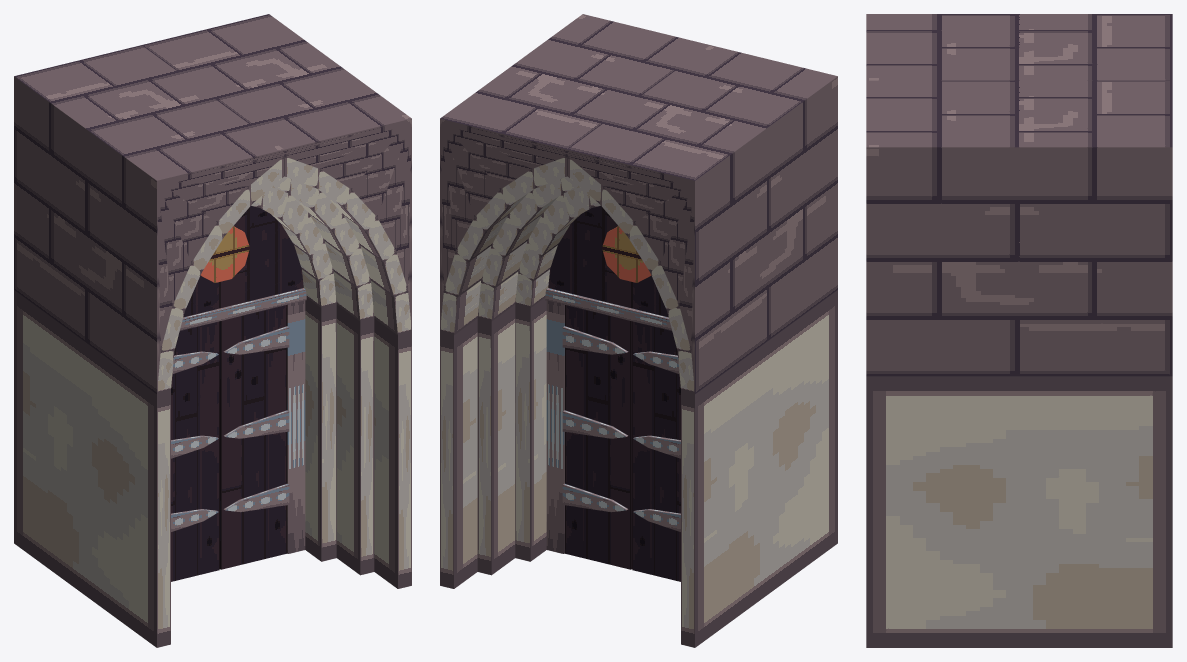
File: door_boss.glb
3 views of the same model, side by side, from view 1: azimuth 30°, elevation 25°; view 2: azimuth 150°, elevation 25°; view 3: azimuth 270°, elevation 25° (orthographic). The views are drawn at different scales.
Visible parts, largest first — view 1: portal, leaf_a, leaf_b; view 2: portal, leaf_a, leaf_b; view 3: portal.
Boxes of the visible parts, box(x1,y1,x2,y2) form: portal: box(14, 14, 411, 647); leaf_a: box(219, 305, 289, 569); leaf_b: box(171, 321, 219, 581); portal: box(440, 14, 837, 647); leaf_a: box(562, 305, 632, 569); leaf_b: box(632, 321, 680, 581); portal: box(866, 14, 1172, 647).
Bounding box in the file's own units: 2 × 3.5 × 1.94.
1 material, 1 textured.
